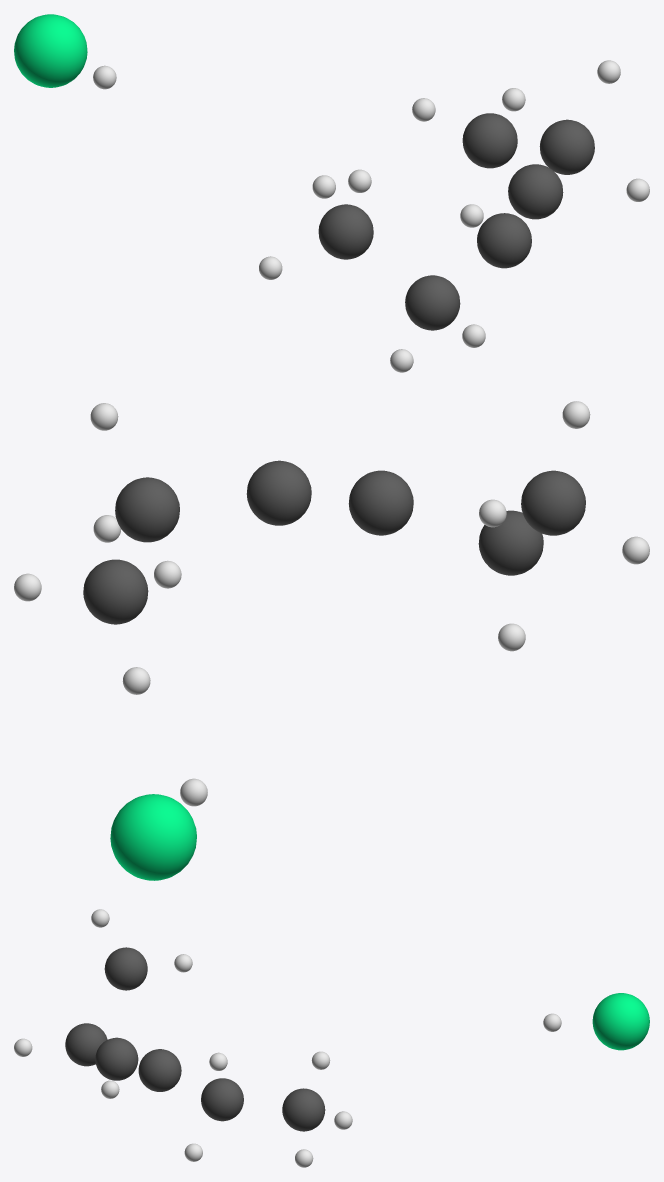
File: 3-Hexyne_Hydrochloric.fbx
3 views of the same model, one above another, from view 1: azimuth 30°, elevation 25°; view 2: azimuth 150°, elevation 25°; view 3: azimuth 270°, elevation 25° (orthographic). The views are drawn at different scales.
Parts seen in each view (by area): view 1: Cl18, C13, C01, C08, C10, C05, C09; view 2: Cl18, C05, C09, C01, C08, C13, C10; view 3: Cl18, C08, C09, C01, C13, C05, C10.
Part boxes in pixels (x1,y1,x2,y2): Cl18: (14,14,87,87); C13: (318,204,373,259); C01: (462,113,517,168); C08: (508,164,563,219); C10: (405,275,460,330); C05: (539,119,594,174); C09: (477,213,531,268); Cl18: (110,794,196,880); C05: (115,477,179,542); C09: (348,470,413,535); C01: (83,559,148,624); C08: (246,460,311,525); C13: (521,470,585,535); C10: (478,510,543,575); Cl18: (592,993,649,1050); C08: (138,1049,181,1091); C09: (95,1037,138,1080); C01: (282,1088,325,1131); C13: (104,947,147,990); C05: (201,1078,243,1121); C10: (65,1023,107,1066).
Size of the model in its own units: 672 by 325 by 1107.
